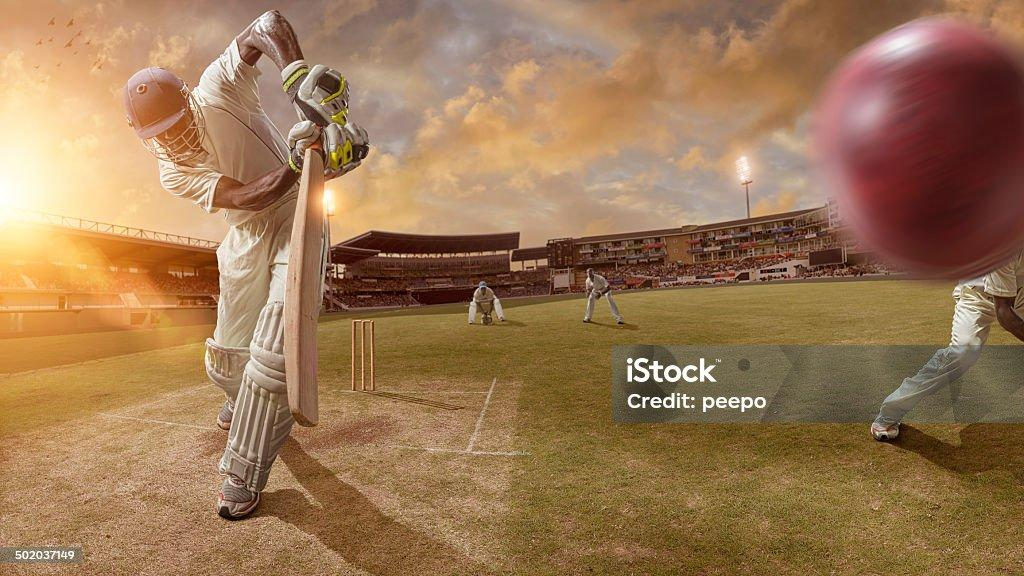batsman: (111, 37, 359, 498)
